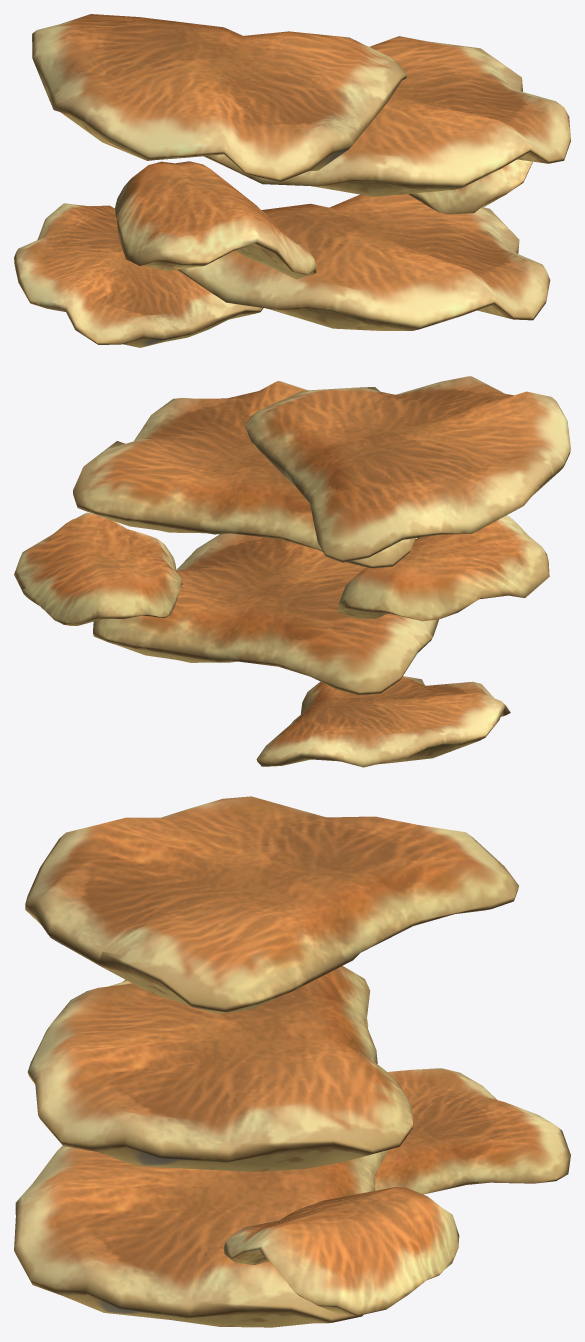
File: Mushroom_Laetiporus.gltf
3 renders of one model, top to bottom at view 1: azimuth 30°, elevation 25°; view 2: azimuth 150°, elevation 25°; view 3: azimuth 270°, elevation 25°, orthographic. The views are drawn at different scales.
Parts seen in each view (by area): view 1: Mushroom_Laetiporus; view 2: Mushroom_Laetiporus; view 3: Mushroom_Laetiporus.
Part boxes in pixels (x1,y1,x2,y2): Mushroom_Laetiporus: (14,14,570,347); Mushroom_Laetiporus: (14,376,570,767); Mushroom_Laetiporus: (14,796,570,1327).
Bounding box in the file's own units: 1.37 × 0.767 × 1.1.
Materials: 1 (1 with a texture image).
